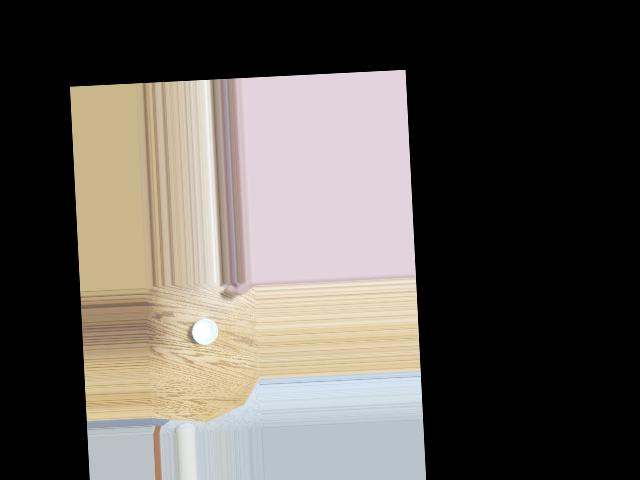cotage: (192, 315, 221, 345)
